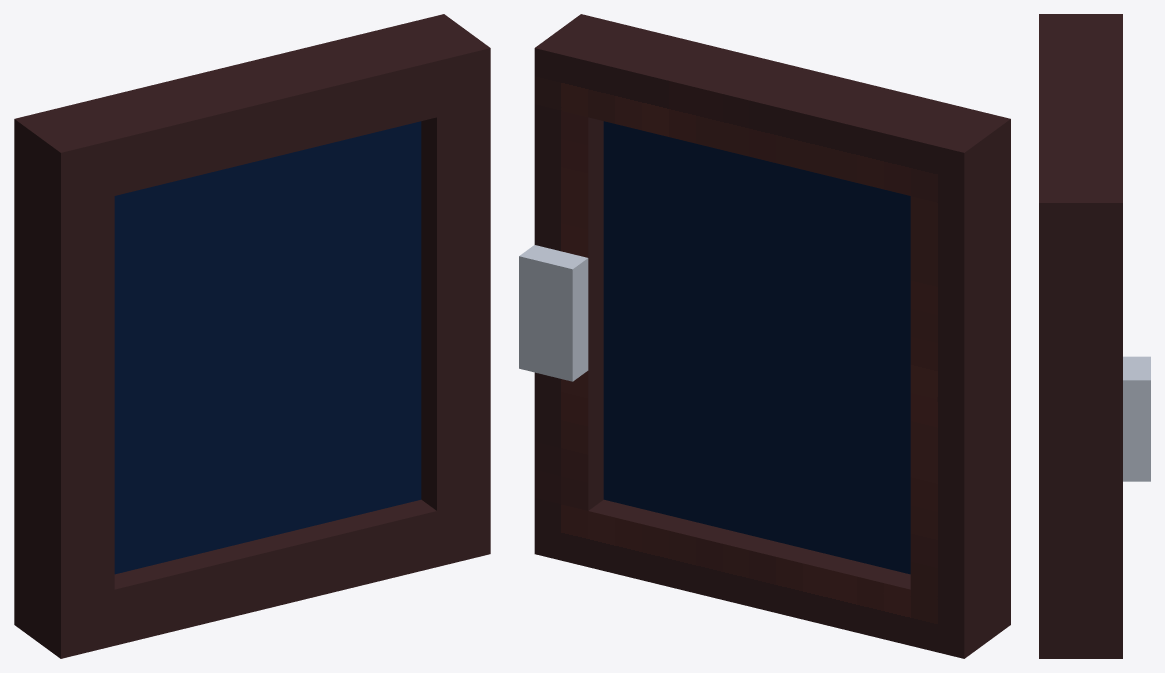
The model's file is Window.fbx.
3 renders of one model, left to right at view 1: azimuth 30°, elevation 25°; view 2: azimuth 150°, elevation 25°; view 3: azimuth 270°, elevation 25°, orthographic. The views are drawn at different scales.
Parts seen in each view (by area): view 1: cube_4, cube_1, cube_3, cube, cube_2; view 2: cube_4, cube_1, cube_3, cube, cube_2, cube_5; view 3: cube_2, cube_1, cube, cube_5.
Boxes of the visible parts, x1,y1,x2,y2 form: cube_4: (114,121,421,574); cube_1: (14,14,490,208); cube_3: (14,175,114,602); cube: (14,498,490,658); cube_2: (421,104,490,510); cube_4: (603,121,910,574); cube_1: (534,14,1010,208); cube_3: (910,175,1010,602); cube: (534,498,1010,658); cube_2: (534,104,603,510); cube_5: (519,245,588,381); cube_2: (1039,253,1122,608); cube_1: (1039,14,1122,253); cube: (1039,608,1122,658); cube_5: (1123,356,1150,481).
Bounding box in the file's own units: 100 × 112 × 25.
1 material, 1 textured.
